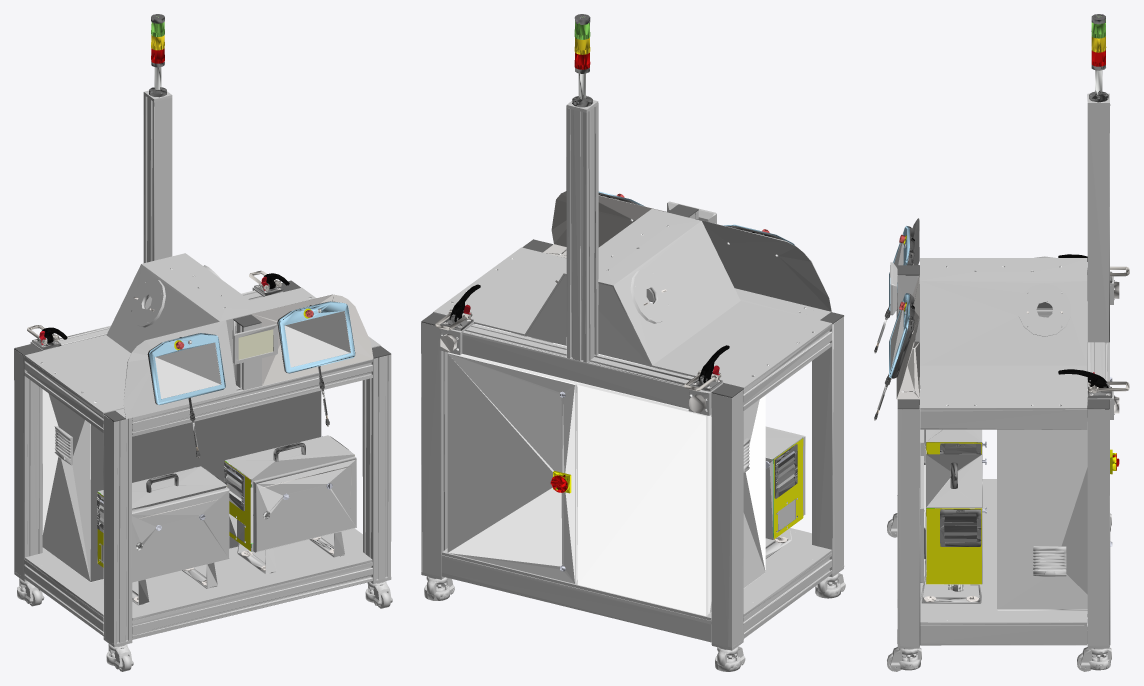
File: arm_mount.fbx
The picture shows the model from 3 angles, left to right: view 1: azimuth 30°, elevation 25°; view 2: azimuth 150°, elevation 25°; view 3: azimuth 270°, elevation 25°; orthographic projection. The views are drawn at different scales.
Visible parts, largest first — view 1: T-NUTFBXASC032BALLFBXASC032TYPEFBXASC032SLIDEFBXASC032INFBX.; view 2: T-NUTFBXASC032BALLFBXASC032TYPEFBXASC032SLIDEFBXASC032INFBX.; view 3: T-NUTFBXASC032BALLFBXASC032TYPEFBXASC032SLIDEFBXASC032INFBX..
Part boxes in pixels (box(x1,y1,x2,y2)): T-NUTFBXASC032BALLFBXASC032TYPEFBXASC032SLIDEFBXASC032INFBX.: box(14, 14, 392, 671); T-NUTFBXASC032BALLFBXASC032TYPEFBXASC032SLIDEFBXASC032INFBX.: box(421, 14, 845, 671); T-NUTFBXASC032BALLFBXASC032TYPEFBXASC032SLIDEFBXASC032INFBX.: box(874, 14, 1129, 671).
Size of the model in its own units: 121 by 228 by 90.03.
